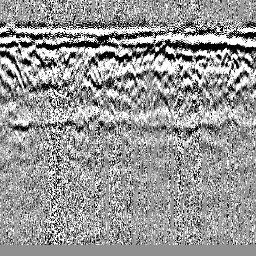cavity: (122, 59, 139, 88)
